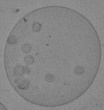small: (23, 55, 34, 66), (14, 65, 25, 76), (18, 80, 30, 90), (31, 22, 41, 32), (44, 73, 54, 83), (74, 66, 85, 75), (9, 35, 18, 45), (21, 44, 30, 52), (13, 77, 23, 83)
